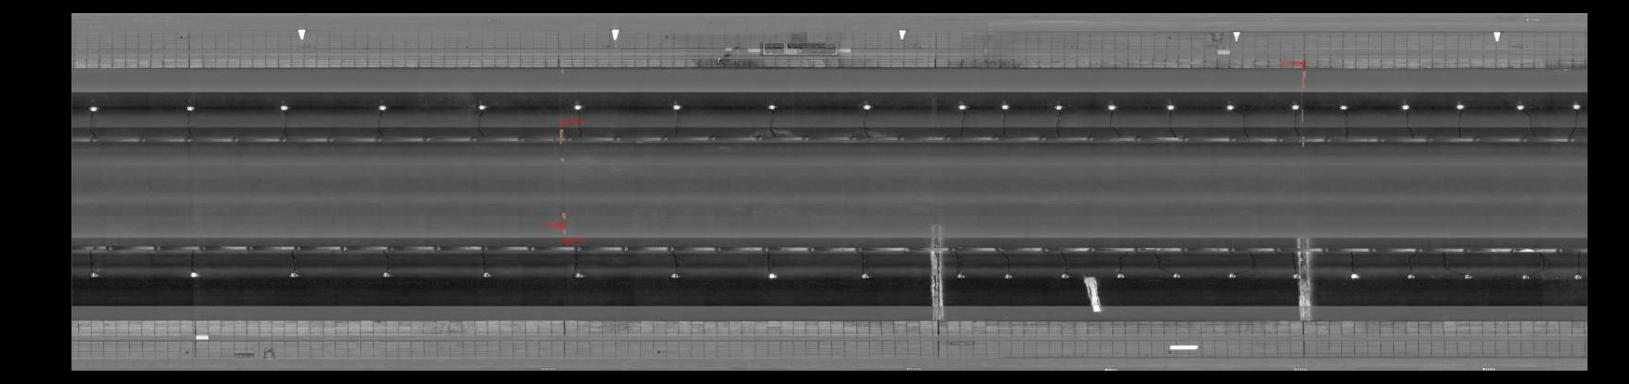light: (854, 100, 878, 113), (284, 268, 304, 282), (762, 268, 782, 282), (763, 99, 782, 113), (85, 267, 104, 281), (477, 268, 497, 281), (568, 100, 588, 113), (1166, 269, 1185, 282), (1568, 269, 1583, 285), (473, 100, 491, 113), (665, 269, 684, 282), (1220, 100, 1239, 112), (185, 267, 202, 281), (1518, 268, 1534, 282), (373, 101, 391, 114), (668, 100, 686, 113), (377, 268, 396, 280), (1511, 99, 1527, 112), (1396, 100, 1414, 112), (1102, 100, 1120, 112), (178, 103, 198, 113), (855, 271, 874, 282), (953, 100, 971, 111), (1450, 100, 1469, 111), (1346, 269, 1363, 281), (1567, 100, 1583, 112), (84, 103, 102, 114), (275, 102, 293, 113), (1403, 270, 1420, 281), (1058, 270, 1073, 282), (1050, 100, 1066, 112), (1111, 271, 1129, 281), (1286, 99, 1302, 111), (570, 271, 587, 282), (952, 271, 968, 282), (996, 101, 1013, 112), (1223, 271, 1239, 282), (1161, 101, 1178, 112), (999, 271, 1015, 282), (1460, 271, 1475, 282), (1337, 101, 1352, 112), (1287, 271, 1301, 281)
